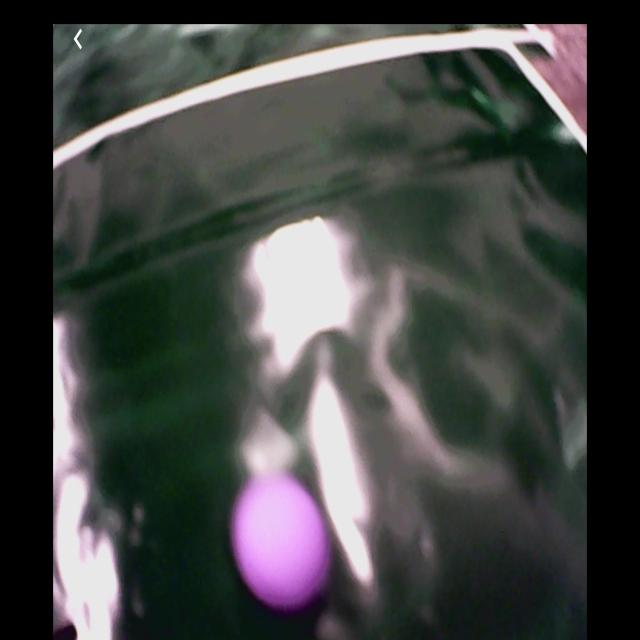ball: (230, 471, 333, 613)
